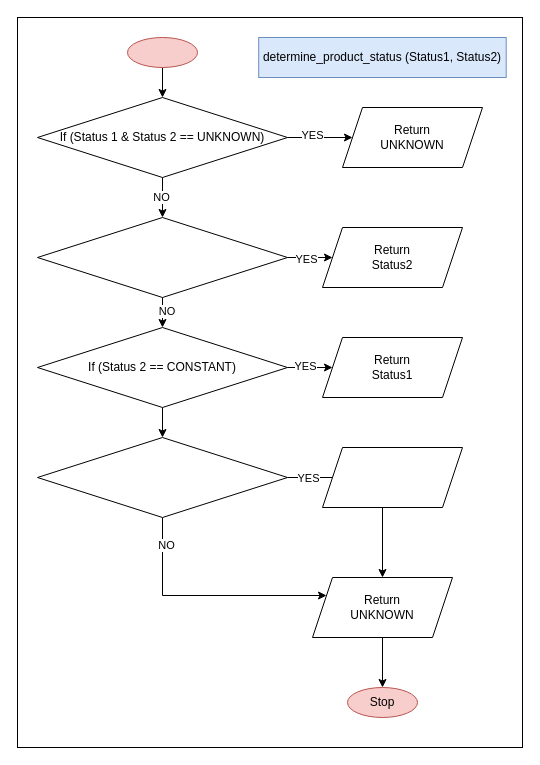
Some shapes in this 540 by 765 pixel diagram are drawn without their labels. Here are the shapes that lost their labels. From the top down, the box of each, then its label:
(126, 36, 198, 68): Start
(36, 216, 288, 298): If (Status 1 == CONSTANT)
(36, 436, 288, 518): If (Status 2 == Status2)
(322, 446, 462, 508): Return INCREASE
